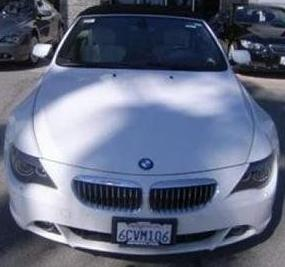front_view: (6, 135, 281, 255)
headlight: (6, 137, 59, 192)
